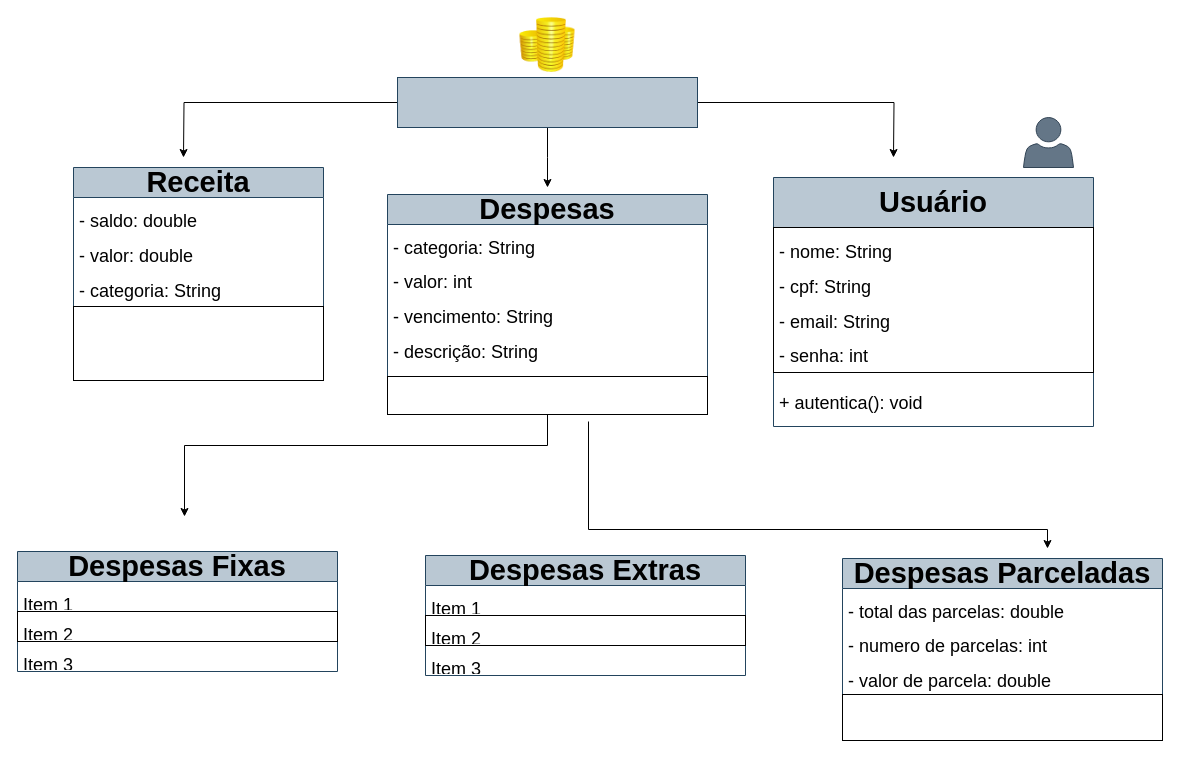
Some shapes in this 1180 by 758 pixel diagram are drawn without their labels. The shapes that lost their labels are listed below. From the top down, each one's centre as x and y in pixels, then its label:
At point (547, 102): "Controle Financeiro".
At point (198, 343): "+ registrarReceita(): void + consultarReceita(): void".
At point (547, 395): "+ registrarSaida(): void".
At point (1002, 717): "valor de parcela".
